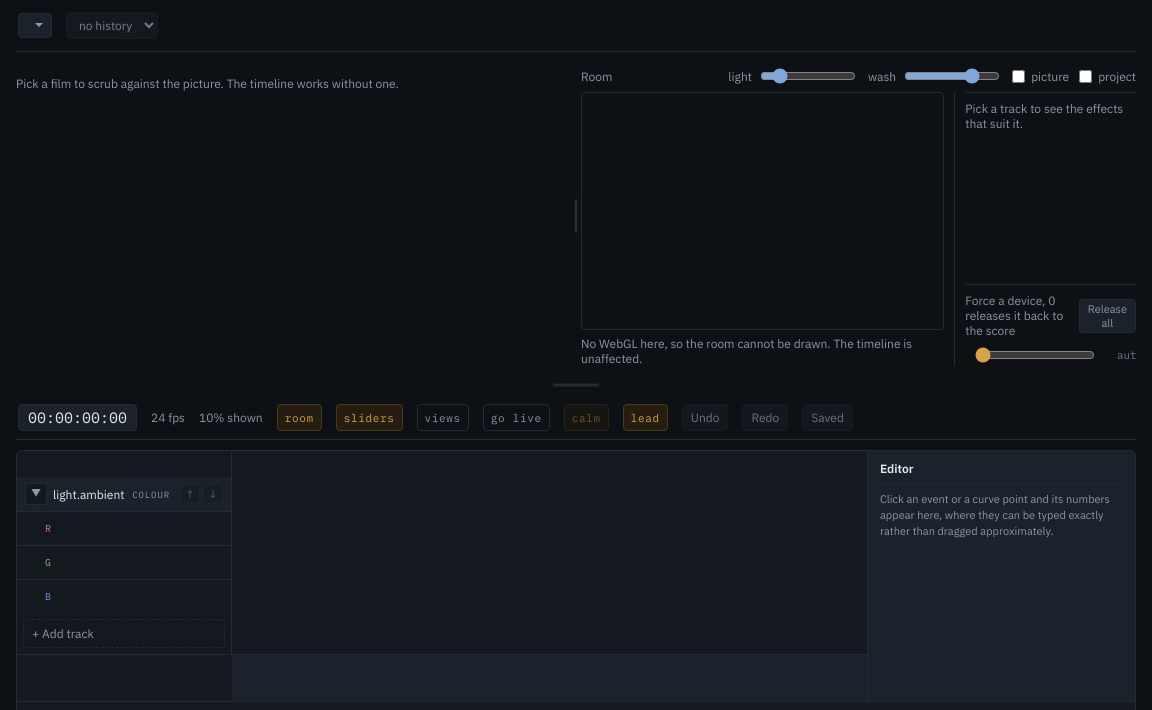
Scenario: the sliders toggle › hides them, giving the room the space
Expected: the element with class "force" is shown, [965,284,1136,366]
Click the button "sliders": (369, 418) [336,404,402,431]
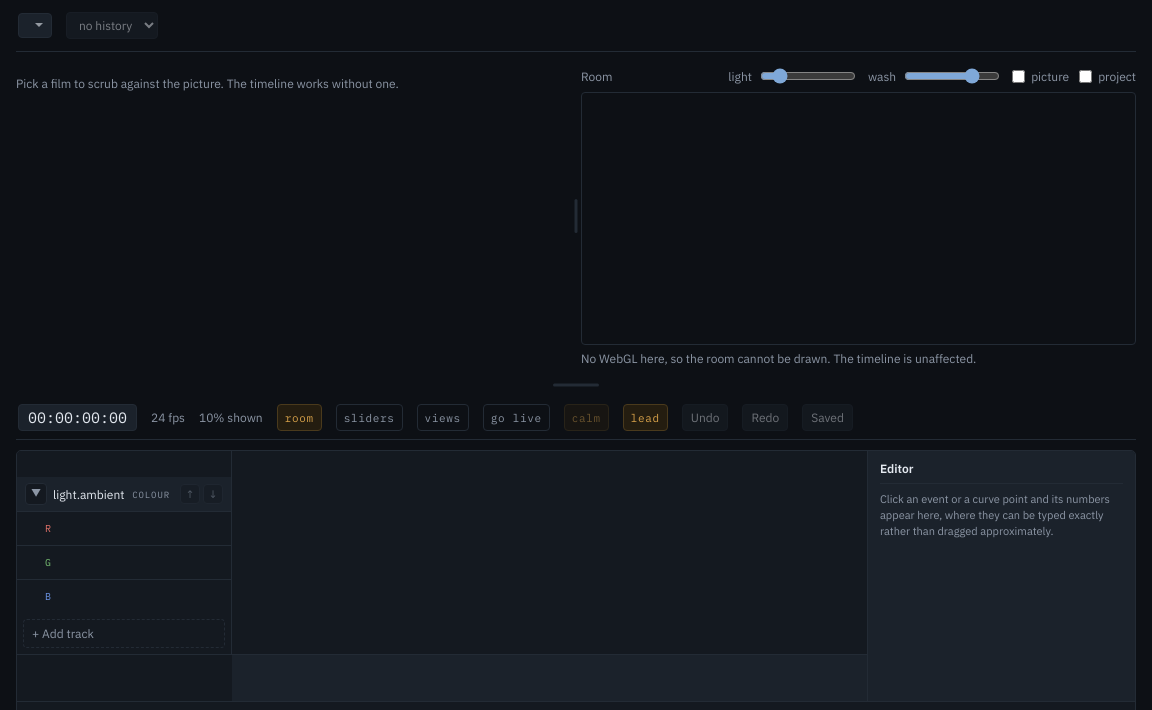
Expected: the element with class "stage-room" is shown, [581,66,1136,366]
Expected: the element with class "force" is gone
